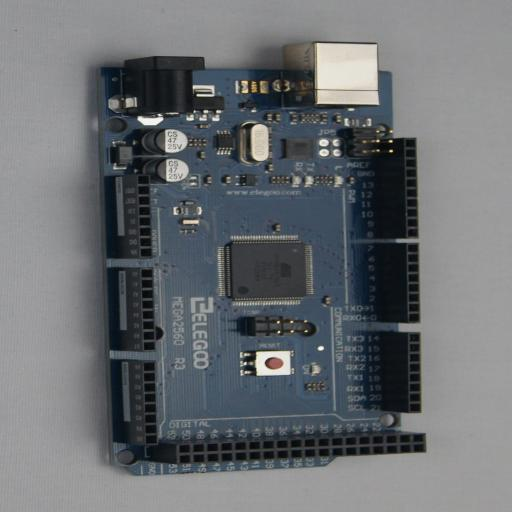Arduino Mega 2560 -Blue-: (83, 41, 426, 476)
